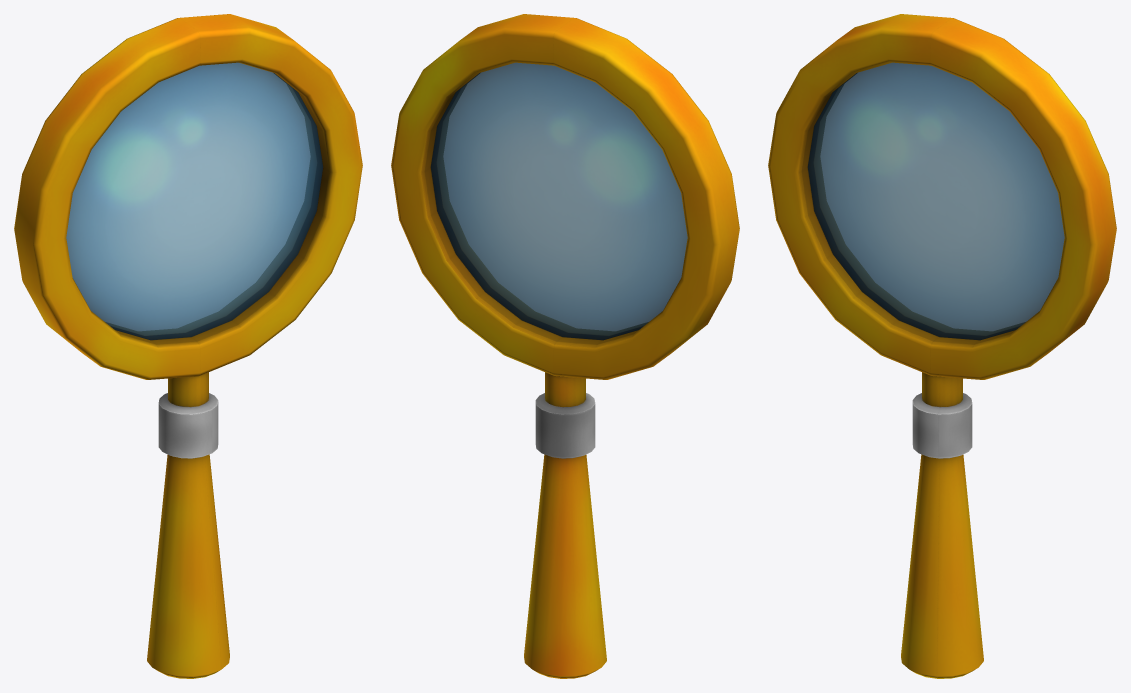
File: MagnifyingGlass.fbx
3 views of the same model, side by side, from view 1: azimuth 30°, elevation 25°; view 2: azimuth 150°, elevation 25°; view 3: azimuth 330°, elevation 25° (orthographic).
Visible parts, largest first — view 1: MagnifyingGlass; view 2: MagnifyingGlass; view 3: MagnifyingGlass.
Boxes of the visible parts, box(x1,y1,x2,y2) form: MagnifyingGlass: box(14, 14, 362, 678); MagnifyingGlass: box(391, 14, 739, 678); MagnifyingGlass: box(768, 14, 1116, 678).
Bounding box in the file's own units: 0.1143 × 0.2136 × 0.0252.
